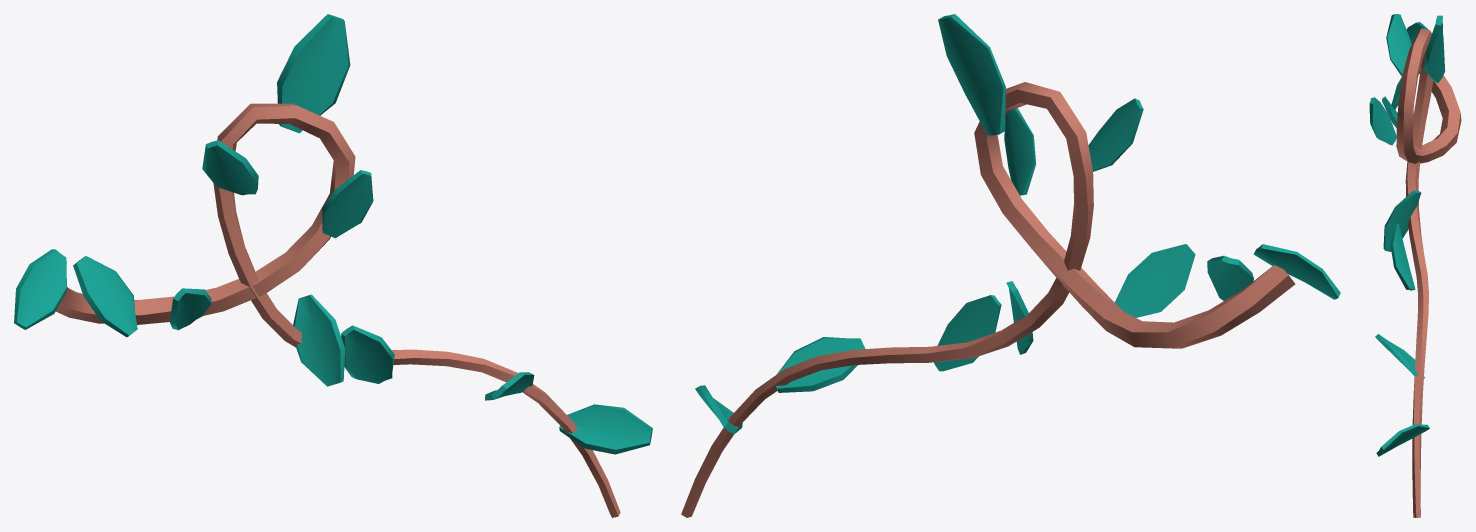
Rendered from SM_Vine1.fbx.
3 renders of one model, left to right at view 1: azimuth 30°, elevation 25°; view 2: azimuth 150°, elevation 25°; view 3: azimuth 270°, elevation 25°, orthographic. The views are drawn at different scales.
Visible parts, largest first — view 1: Vine1; view 2: Vine1; view 3: Vine1.
Part boxes in pixels (x1,y1,x2,y2): Vine1: (14, 14, 652, 517); Vine1: (681, 14, 1340, 517); Vine1: (1369, 14, 1461, 517).
Bounding box in the file's own units: 49.3 × 41.75 × 8.56.
